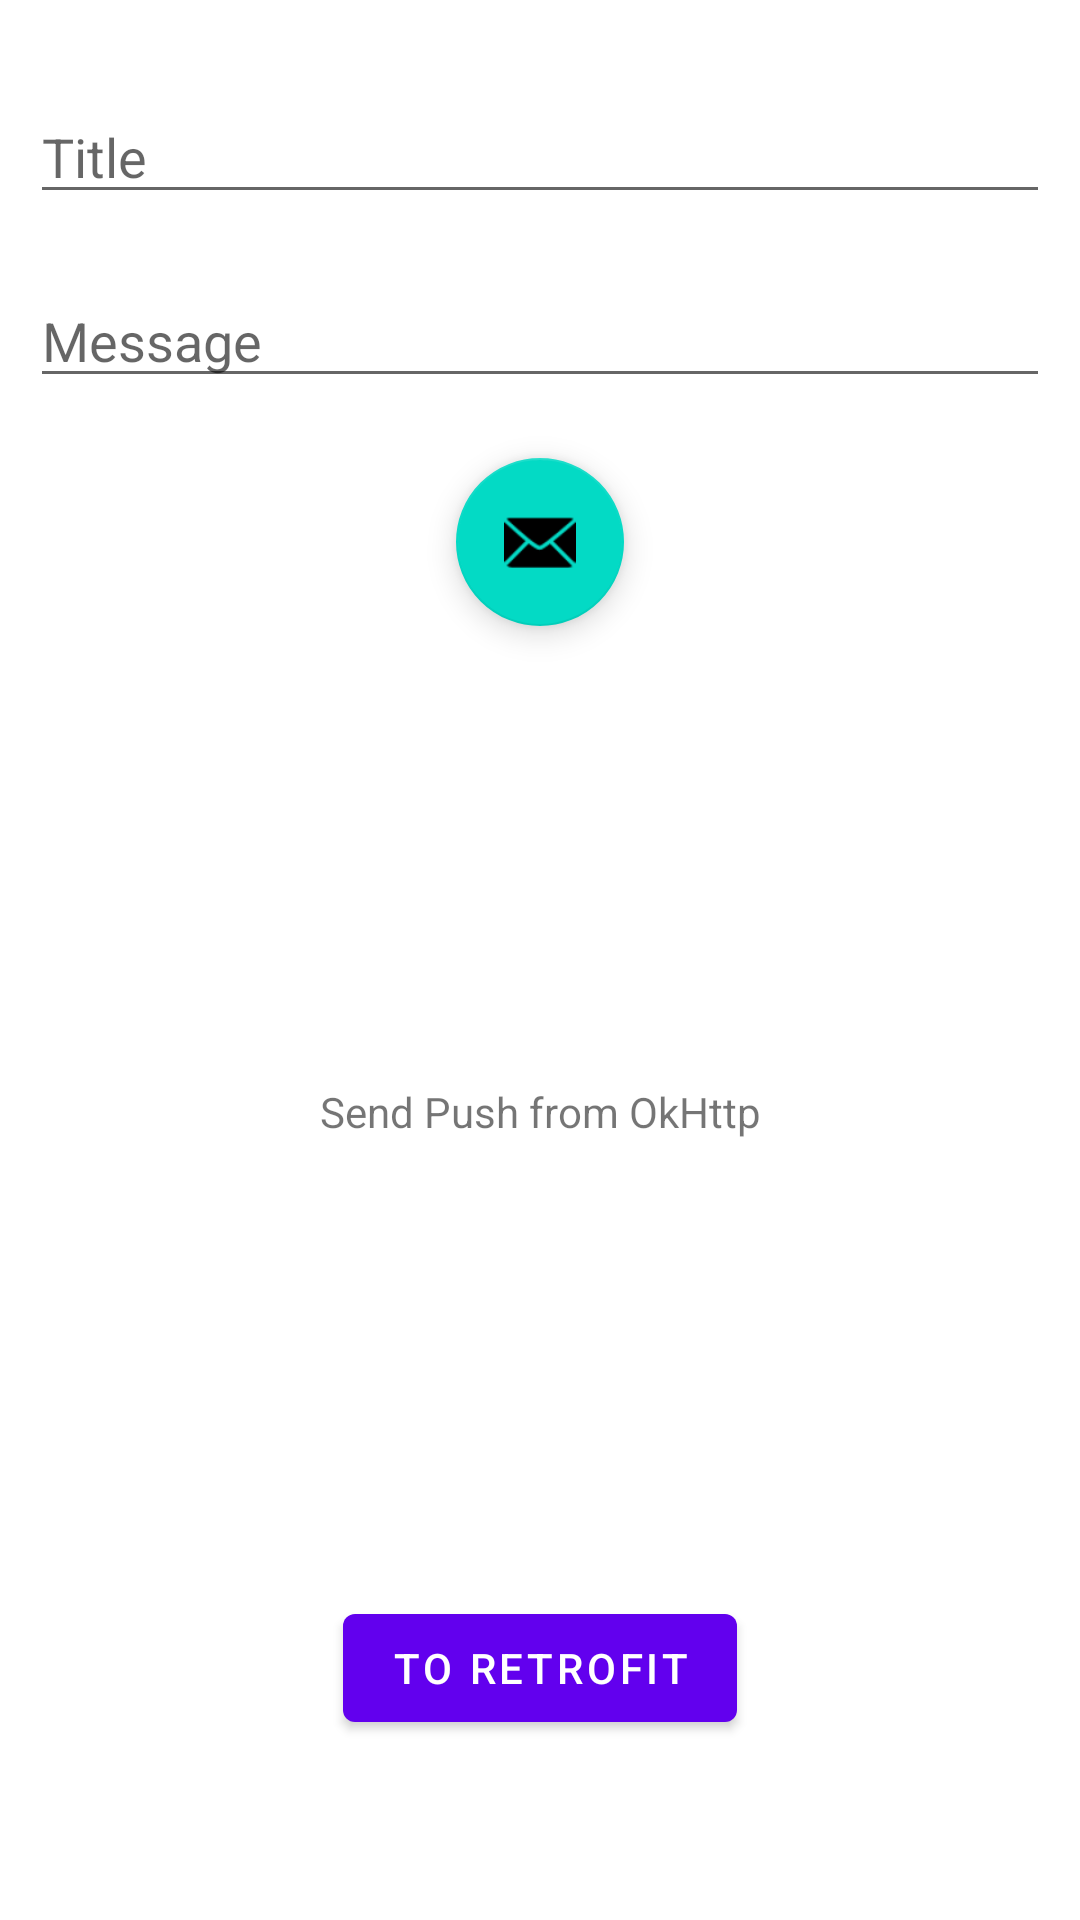

Where icons sit on this 1080px×1920px app screen, as (x1, y1, x2, y2):
email: (456, 458, 624, 626)
